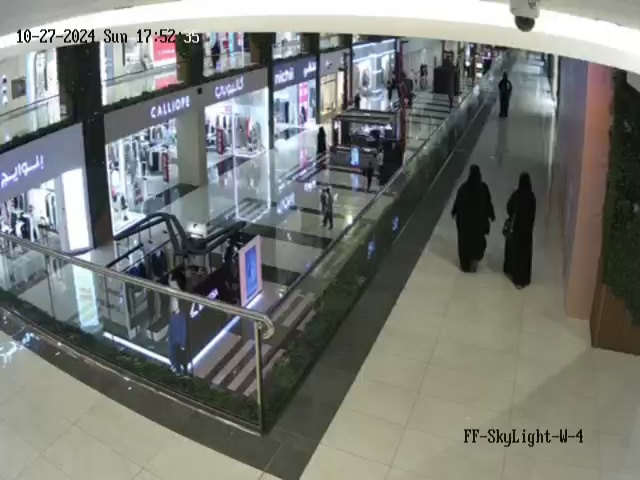female: (450, 164, 496, 273), (503, 172, 536, 289), (497, 71, 513, 118)
male: (320, 187, 335, 230)
